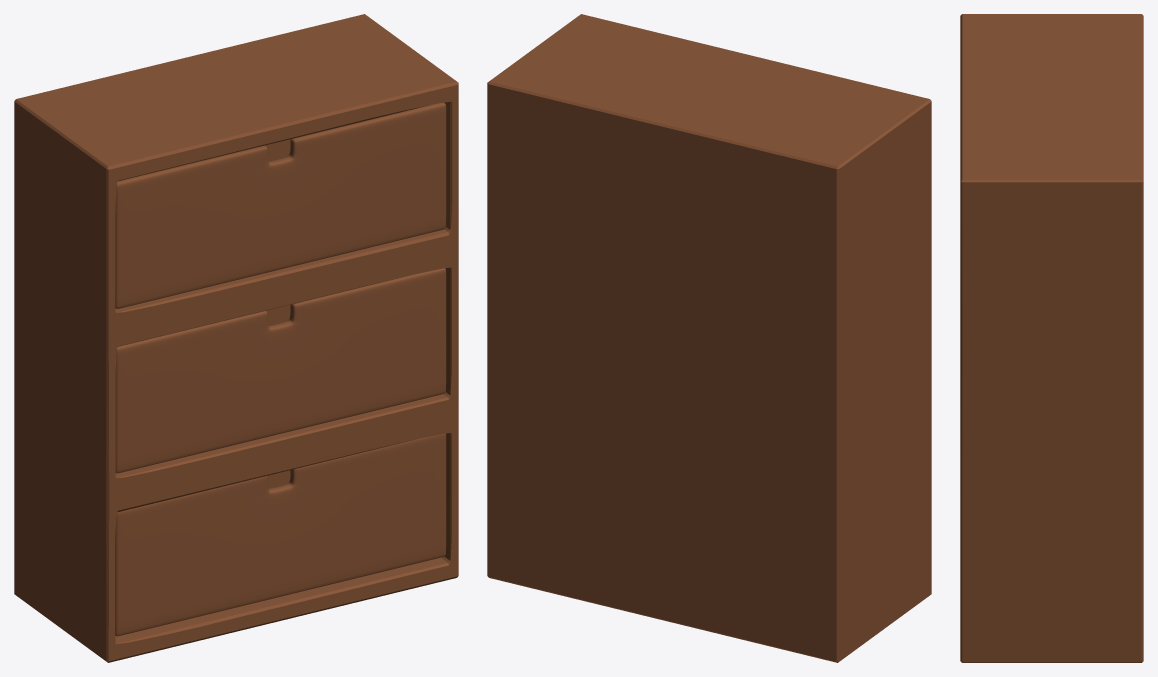
The model's file is drawers.glb.
3 renders of one model, left to right at view 1: azimuth 30°, elevation 25°; view 2: azimuth 150°, elevation 25°; view 3: azimuth 270°, elevation 25°, orthographic. The views are drawn at different scales.
Visible parts, largest first — view 1: drawers, drawer, drawer.001, drawer.002; view 2: drawers; view 3: drawers.
Part boxes in pixels (bbox=[...]): drawers: bbox=[14, 14, 458, 662]; drawer: bbox=[115, 102, 446, 308]; drawer.001: bbox=[115, 268, 446, 473]; drawer.002: bbox=[115, 433, 446, 636]; drawers: bbox=[487, 14, 931, 662]; drawers: bbox=[960, 14, 1143, 662].
Bounding box in the file's own units: 1.99 × 2.68 × 0.9238.
